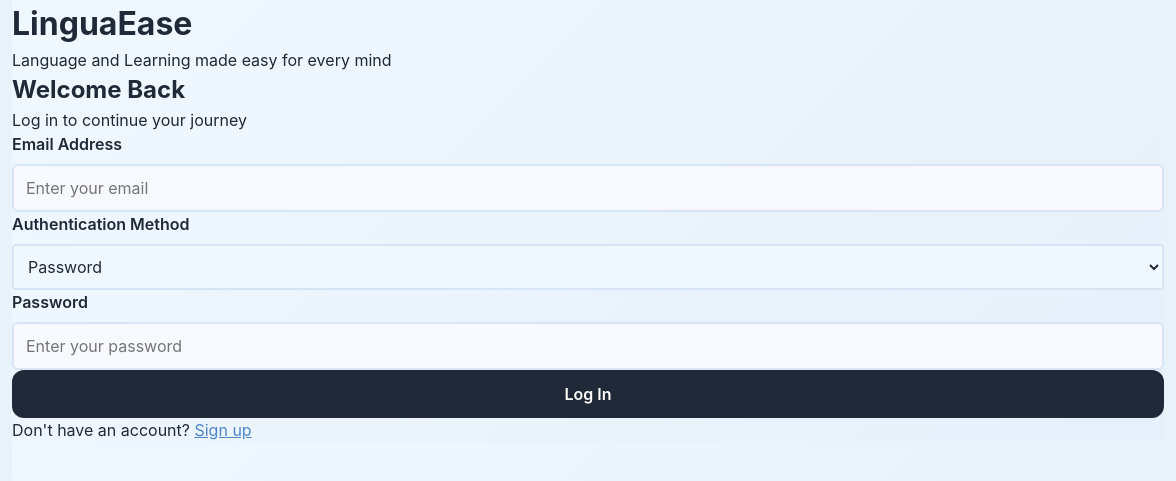
Login Component › should display error for invalid credentials
Type "wrong@example.com" into the field labelled "Email Address" at (588, 188), box [12,164,1164,212]
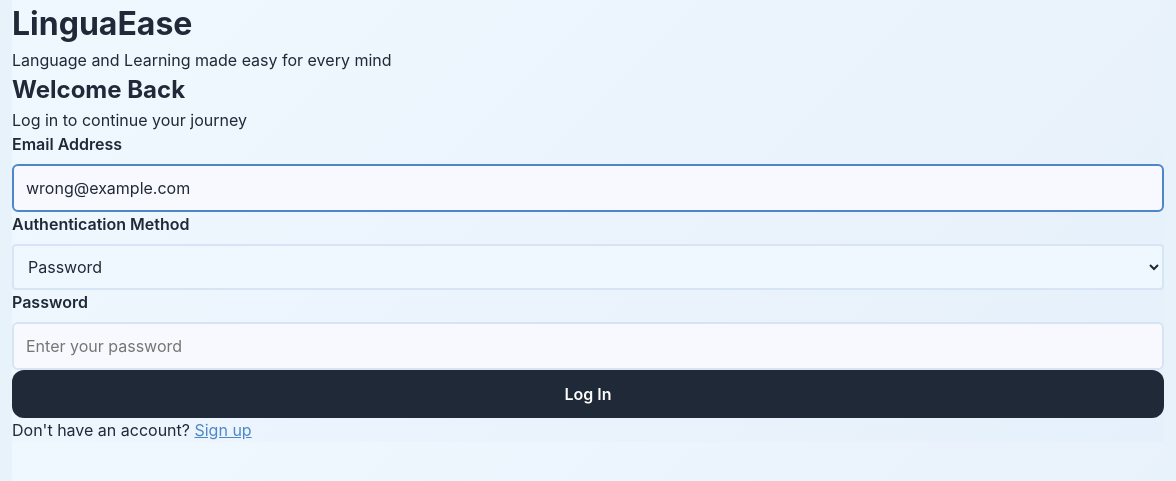
Type "wrongpassword" into the password field labelled "Password" at (588, 346), box [12,322,1164,370]
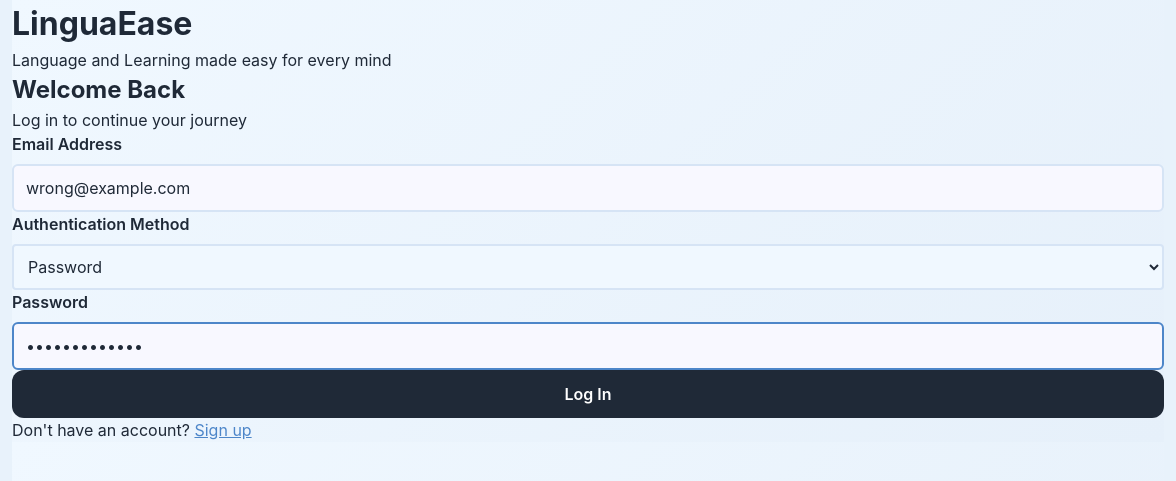
Click the button "Log In" at (588, 394), box [12,370,1164,418]
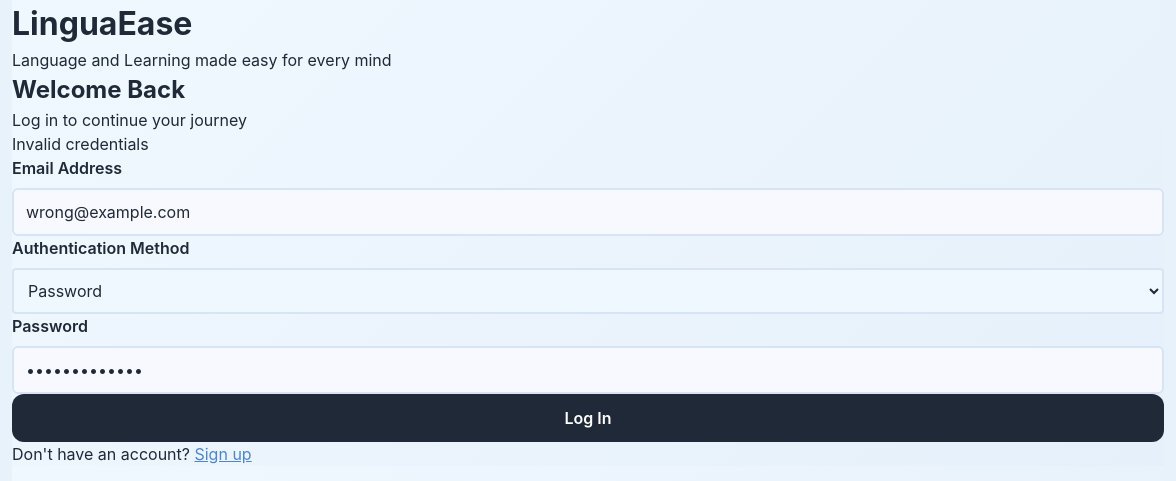
Check: the text "Invalid credentials" is shown, box [12,134,149,154]
